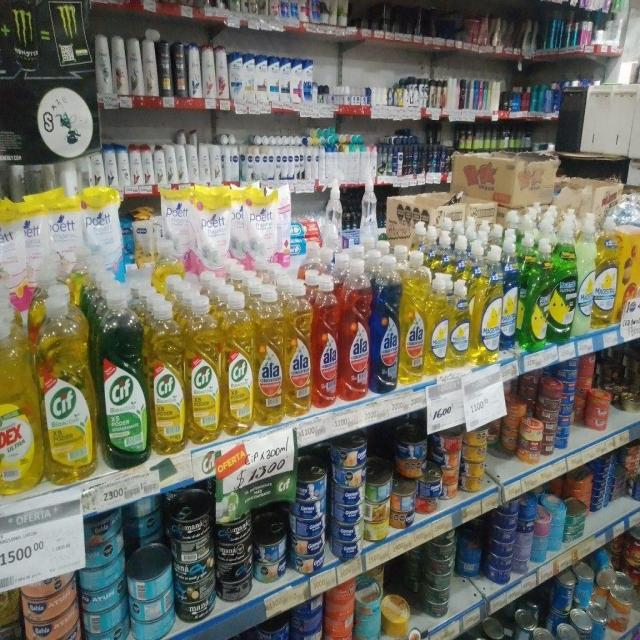ala_conc_amarillo: (255, 285, 284, 425), (284, 284, 312, 418), (400, 250, 426, 384)
ala_conc_azul: (372, 251, 399, 393)
ala_conc_rojo: (340, 256, 371, 402), (313, 274, 339, 409)
cif_conc_bot_amarilla: (40, 279, 96, 483), (149, 298, 185, 456), (186, 294, 221, 444), (222, 290, 254, 435)
cif_conc_botella_verde: (99, 288, 148, 468)
magistral_con_amarillo: (474, 240, 501, 363), (594, 215, 620, 328), (426, 273, 448, 374), (449, 279, 470, 368)
magistral_con_azul: (502, 236, 518, 354)
odex: (0, 307, 40, 495)
